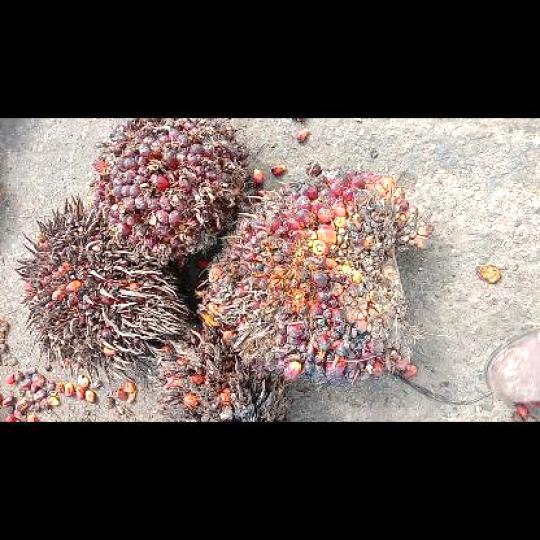masak: (197, 162, 432, 384), (89, 118, 254, 264)
terlalu masak: (15, 194, 187, 388), (150, 324, 289, 421)
